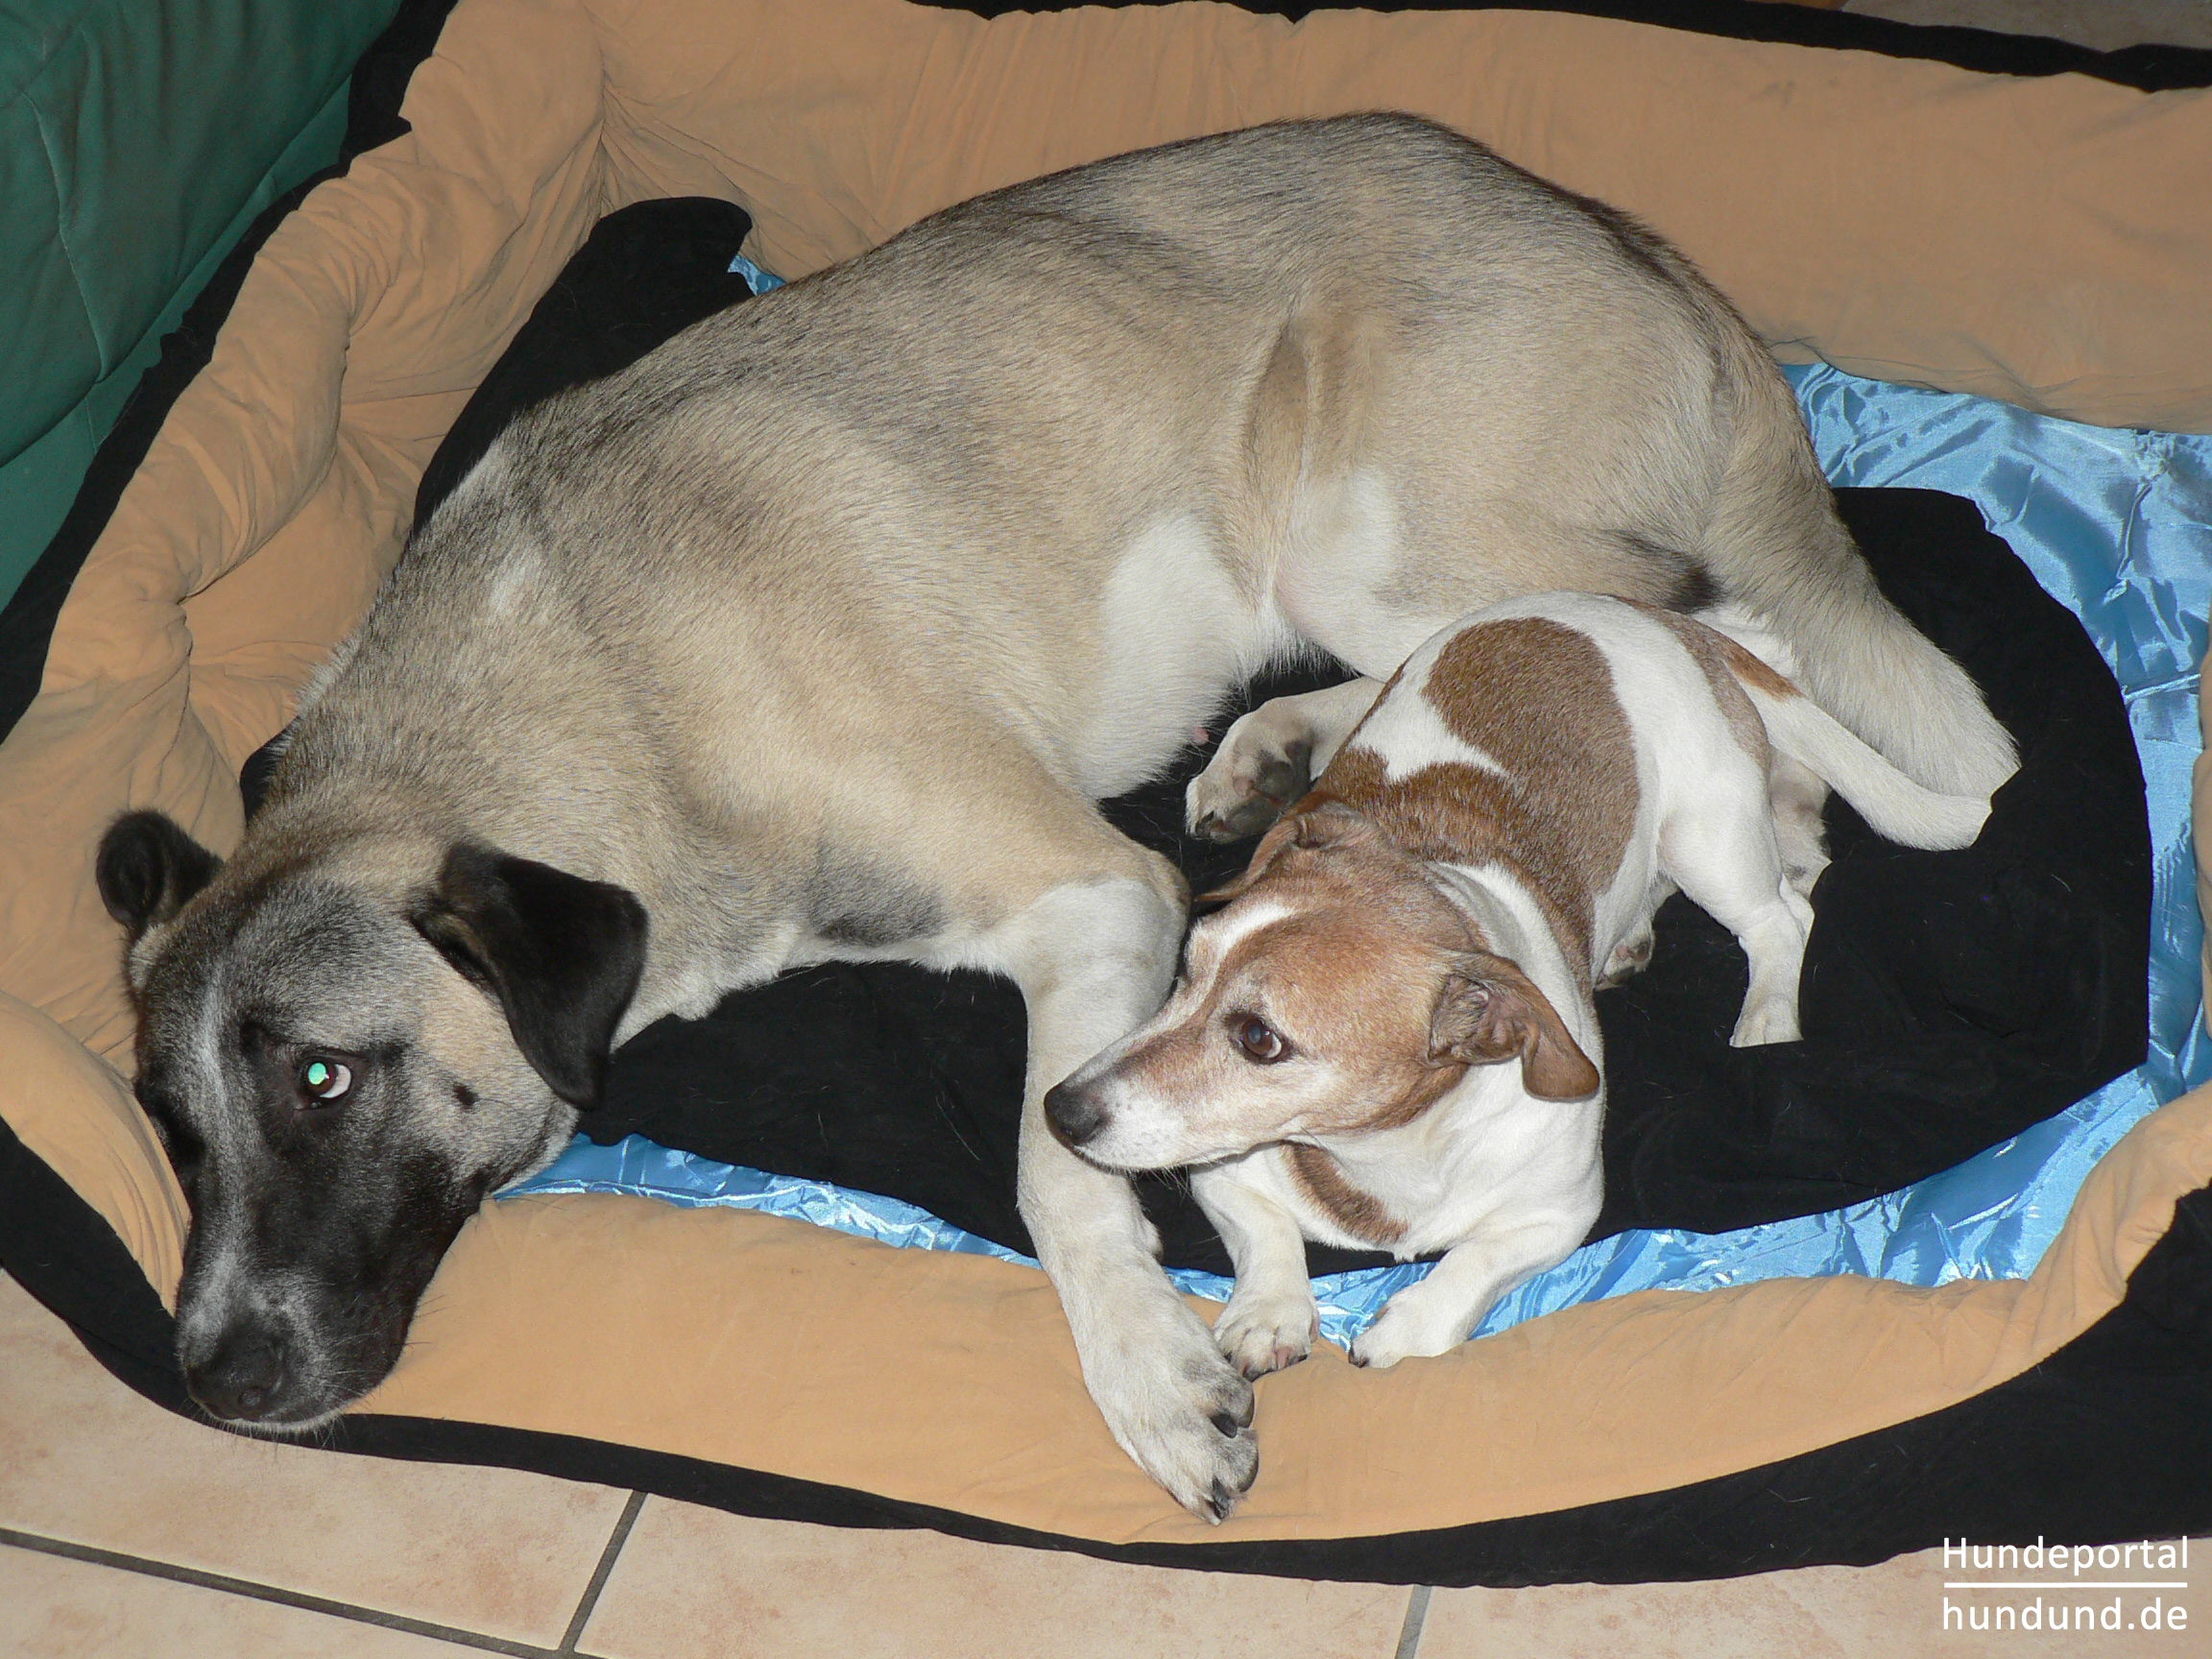kangal: (89, 110, 2022, 1521)
other_dog_breed: (1043, 591, 1991, 1382)
